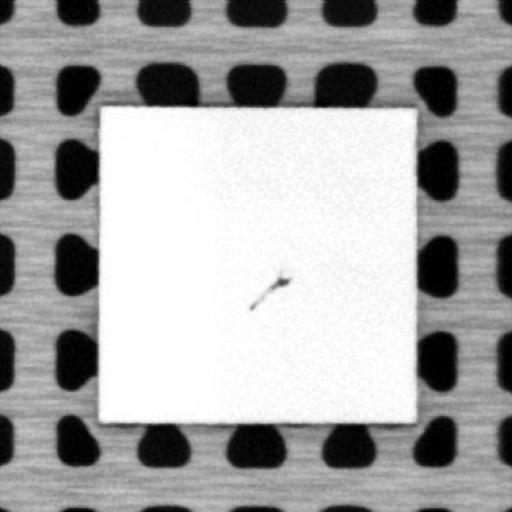DIE_INK: (247, 277, 287, 311)
